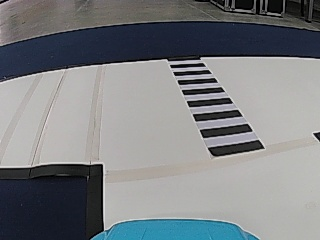CrossWalk: (168, 62, 262, 152)
